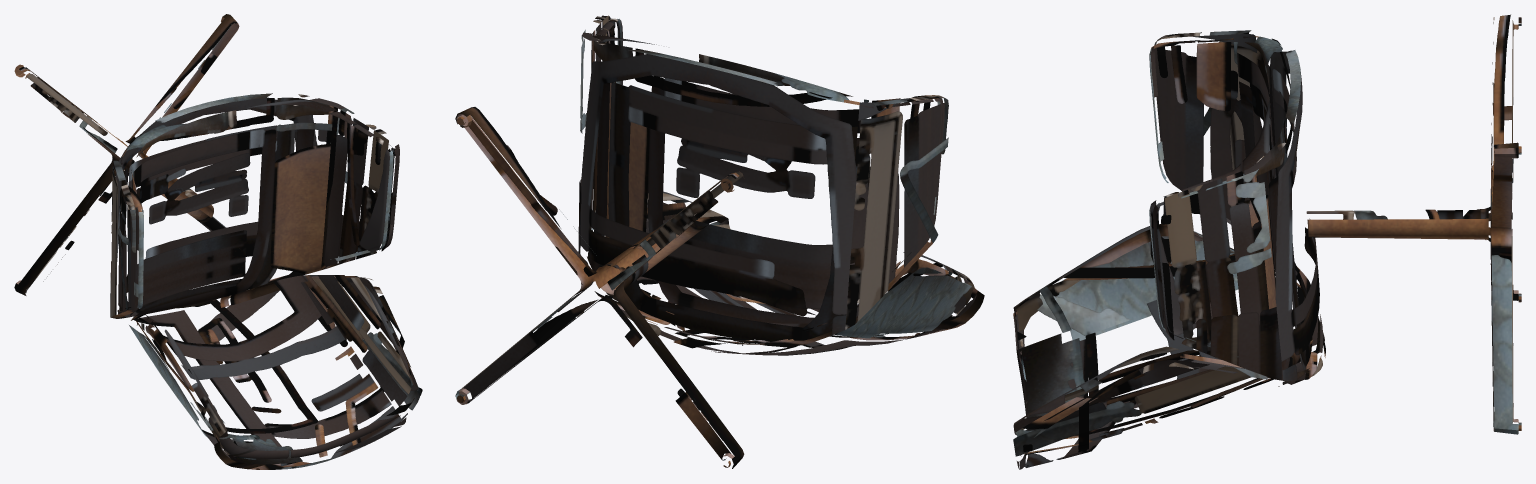
The picture shows the model from 3 angles, left to right: view 1: azimuth 30°, elevation 25°; view 2: azimuth 150°, elevation 25°; view 3: azimuth 270°, elevation 25°; orthographic projection. The views are drawn at different scales.
Size of the model in its own units: 0.6204 by 0.6247 by 0.7881.
